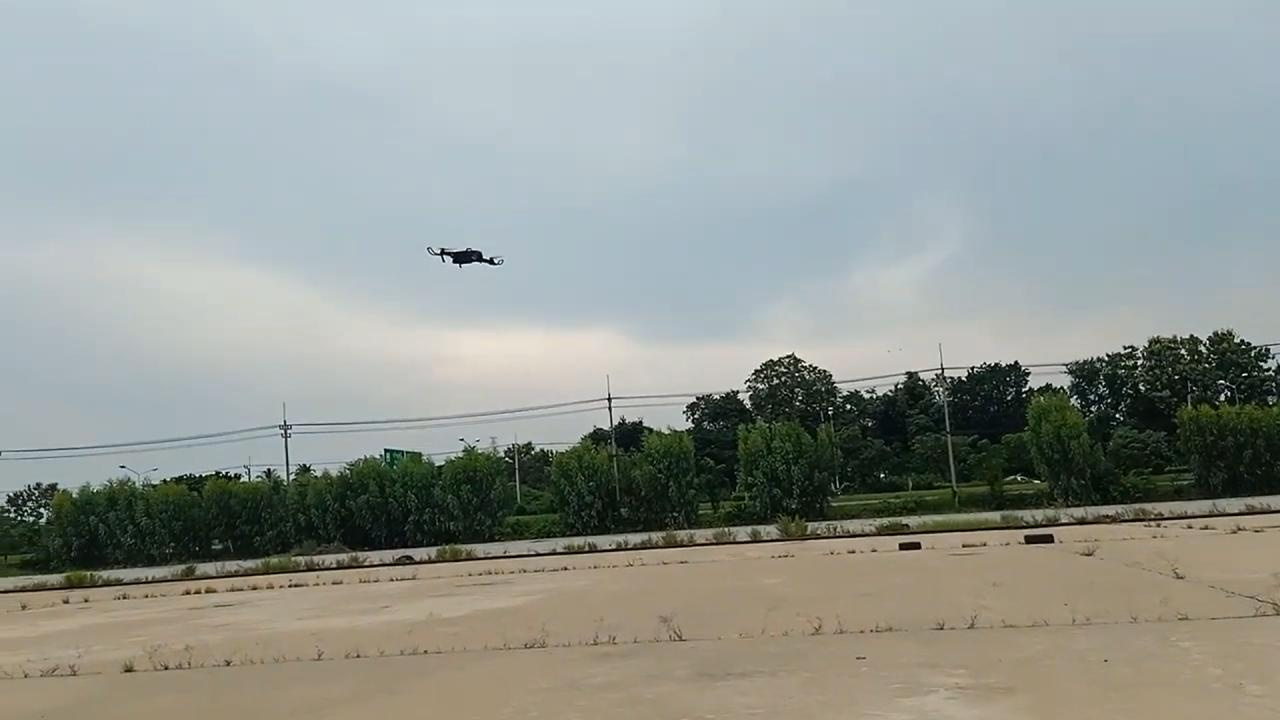Drone: (418, 234, 512, 276)
